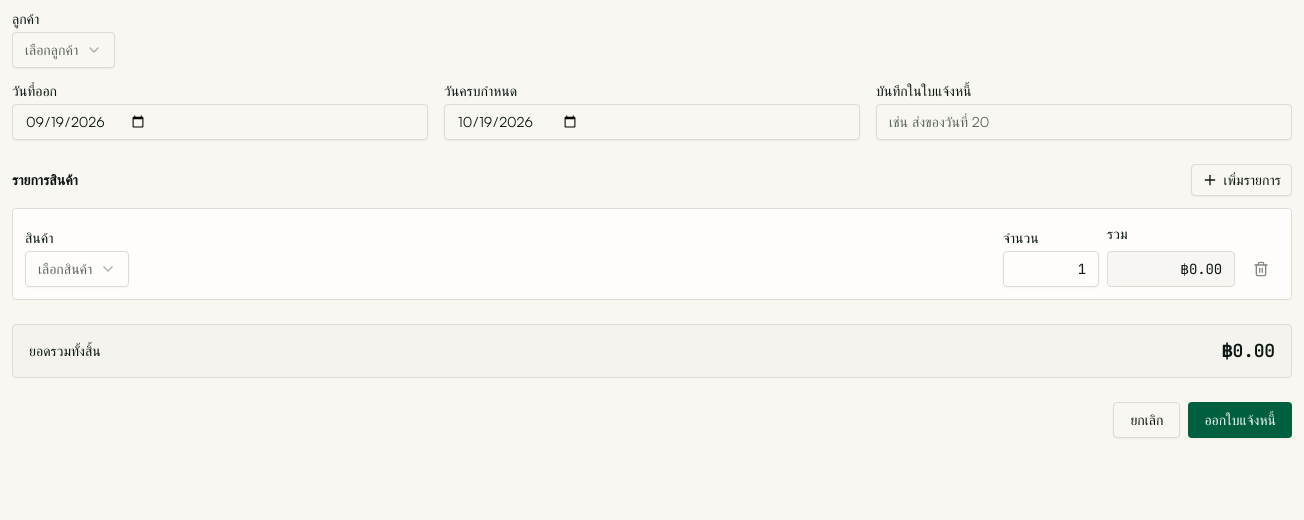
InvoiceForm › requires a customer before submitting
Click the dropdown labelled "สินค้า" at (77, 269), box [25, 251, 129, 287]
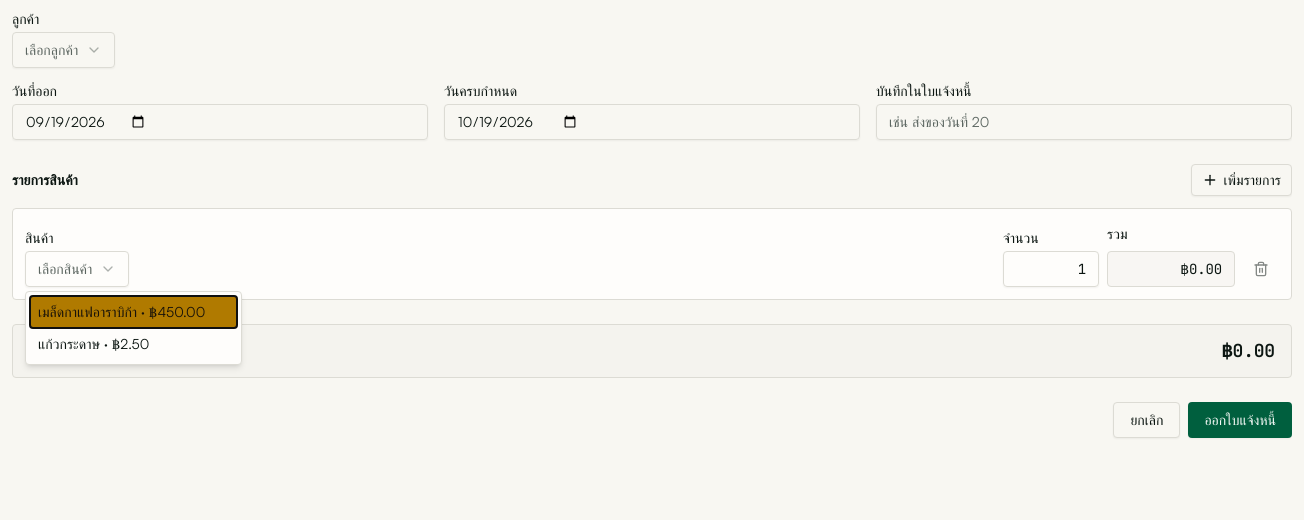
Click the option "เมล็ดกาแฟอาราบิก้า · ฿450.00" at (134, 312), box [30, 296, 237, 328]
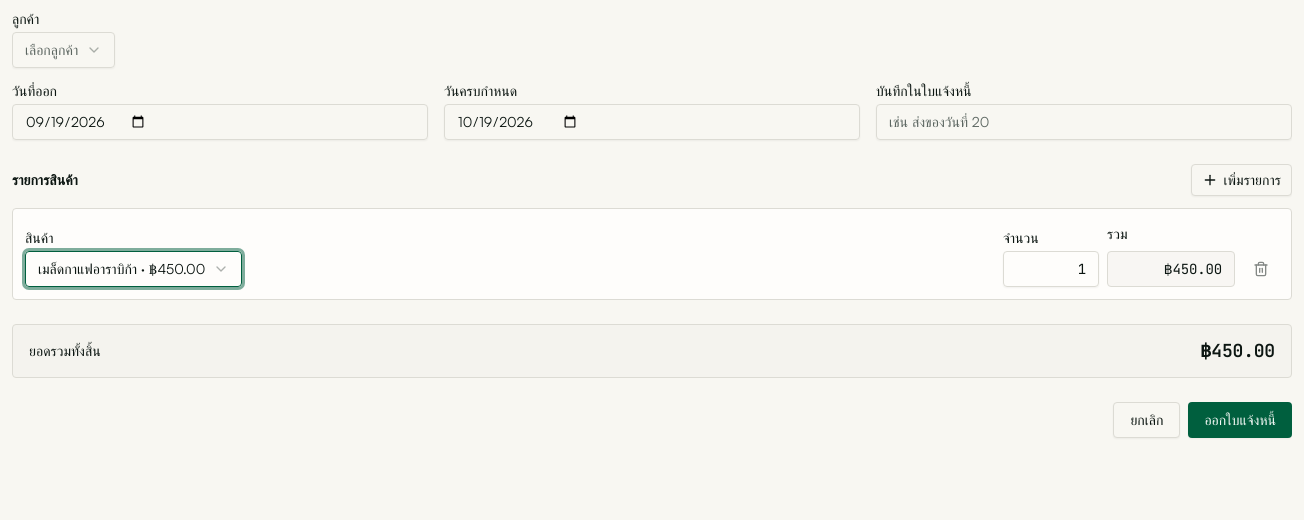
Click the button "ออกใบแจ้งหนี้" at (1240, 420), box [1188, 402, 1292, 438]
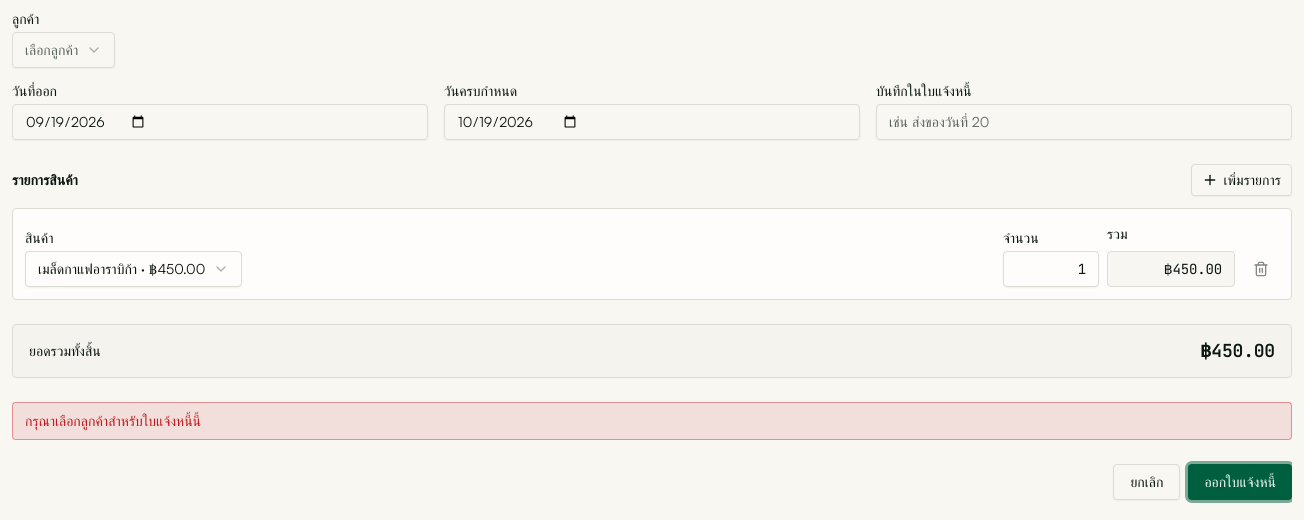
Result: the text "กรุณาเลือกลูกค้าสำหรับใบแจ้งหนี้นี้" is shown at [12, 402, 1292, 440]
